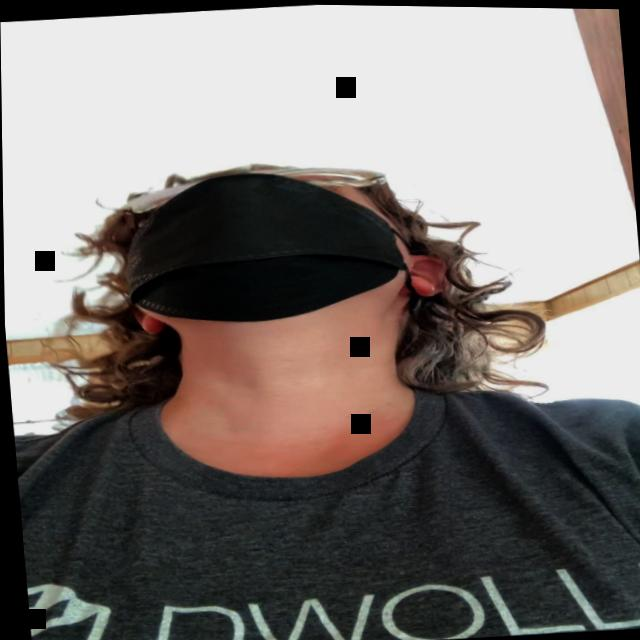Mask: (114, 162, 418, 337)
